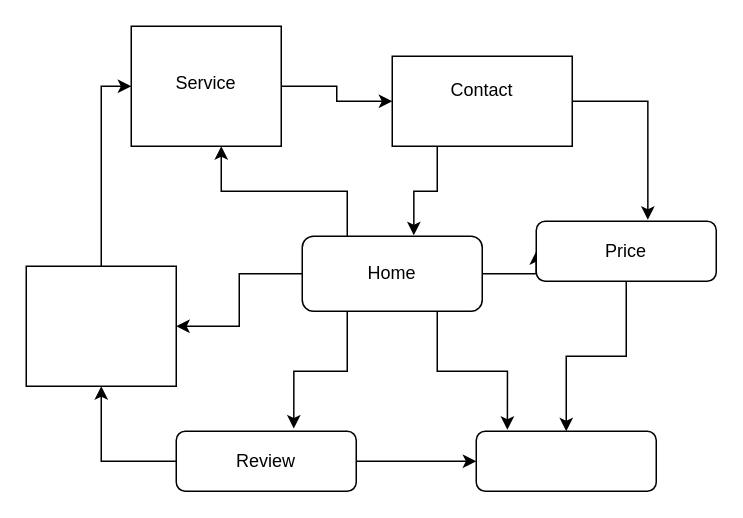
Image size: 743x518. Some labels were removed from this diagram. Each missing label, with the box of its shape:
About: (475, 430, 656, 491)
Gallery: (25, 265, 176, 386)
